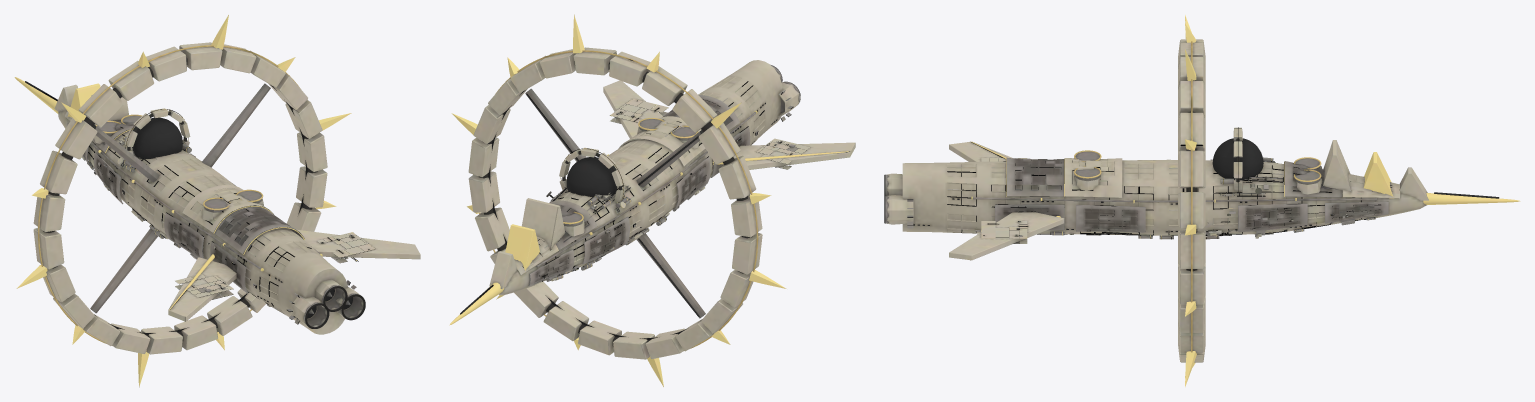
Rendered from radiant_ark_hero.glb.
3 renders of one model, left to right at view 1: azimuth 30°, elevation 25°; view 2: azimuth 150°, elevation 25°; view 3: azimuth 270°, elevation 25°, orthographic.
Visible parts, largest first — view 1: HullBaked; view 2: HullBaked; view 3: HullBaked.
Boxes of the visible parts, <box> form: HullBaked: <box>14,15,420,387</box>; HullBaked: <box>449,14,855,386</box>; HullBaked: <box>884,15,1520,386</box>.
Bounding box in the file's own units: 186 × 186 × 308.
1 material, 1 textured.
